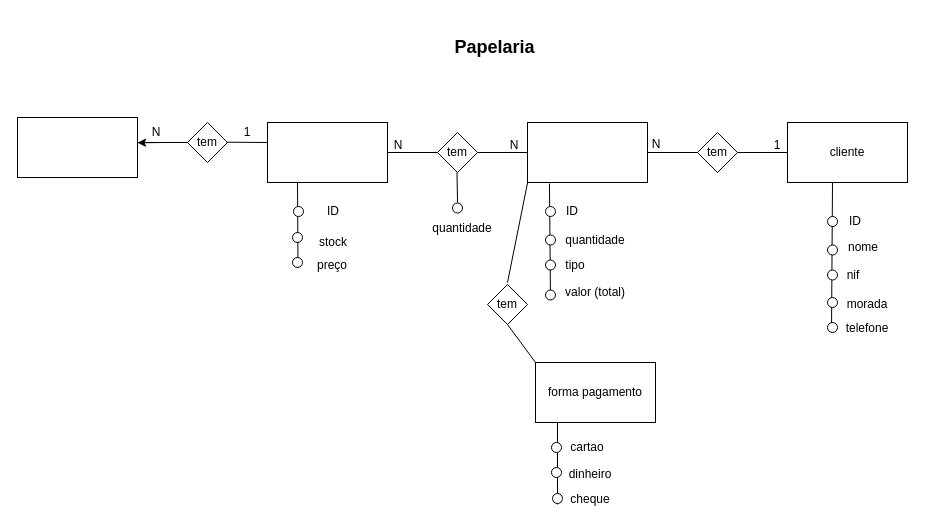
The diagram is 925 pixels wide and 526 high, and some of its shapes have lost their labels. Here are the shapes that lost their labels. From the top down, the centre of each, then its label:
At pixel 77 147: "categoria".
At pixel 327 152: "produto".
At pixel 587 152: "compra".
